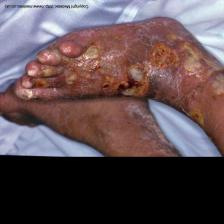Wound: (141, 38, 178, 78), (115, 62, 151, 103), (72, 42, 110, 74)
